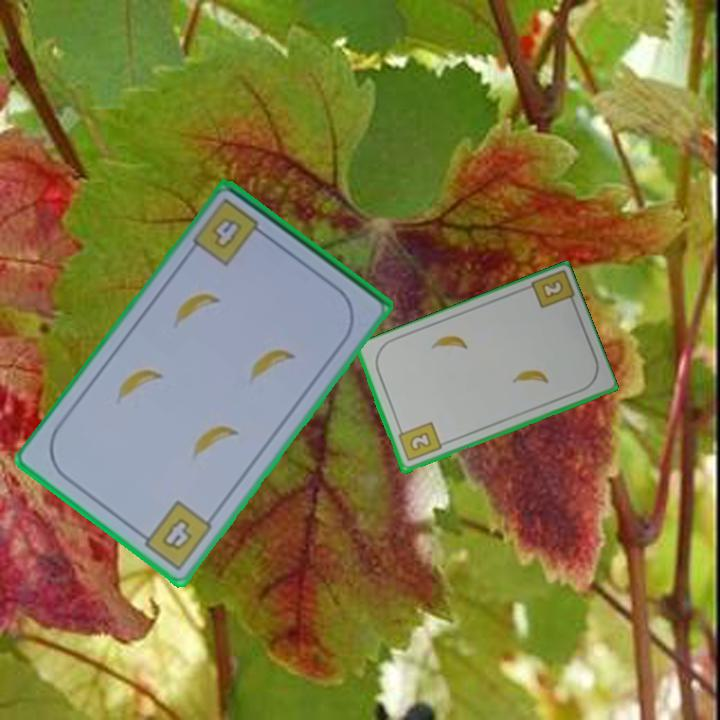2b: (394, 419, 444, 464), (538, 276, 566, 302)
4b: (133, 497, 216, 574), (189, 195, 271, 269)
